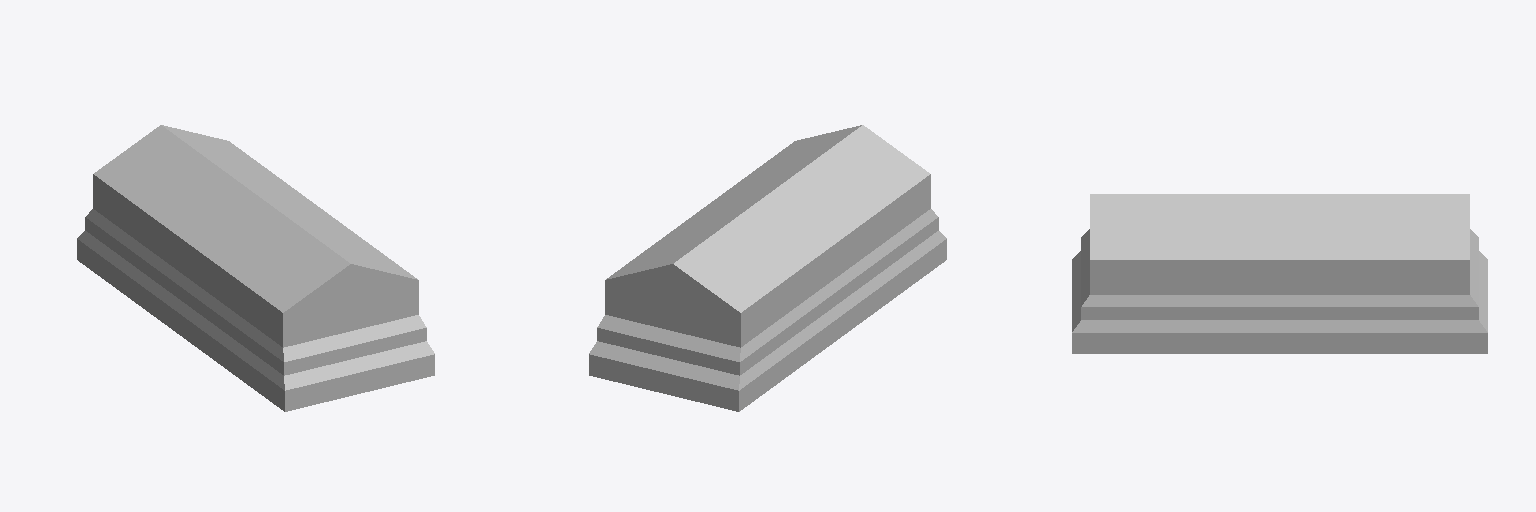
Rendered from Gravestone_Flat_2.obj.
3 views of the same model, side by side, from view 1: azimuth 30°, elevation 25°; view 2: azimuth 150°, elevation 25°; view 3: azimuth 270°, elevation 25° (orthographic).
Visible parts, largest first — view 1: Gravestone_Flat_2; view 2: Gravestone_Flat_2; view 3: Gravestone_Flat_2.
Boxes of the visible parts, x1,y1,x2,y2 form: Gravestone_Flat_2: [77, 125, 434, 411]; Gravestone_Flat_2: [589, 125, 946, 411]; Gravestone_Flat_2: [1072, 194, 1487, 353].
Size of the model in its own units: 0.472 by 0.37 by 1.13.